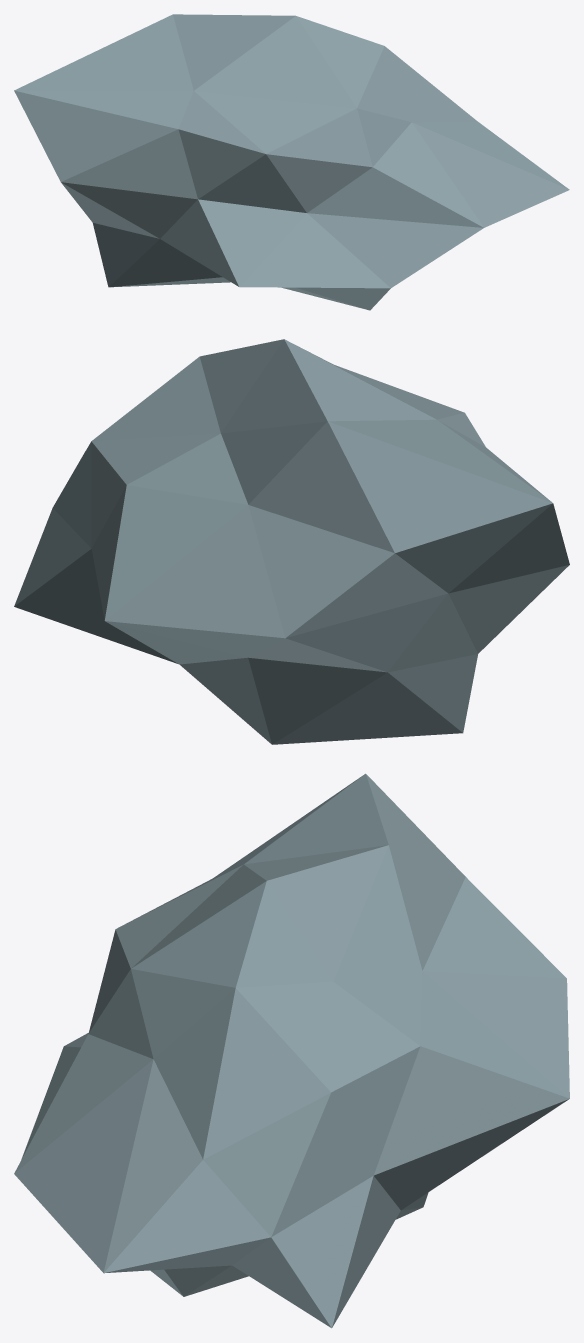
Rendered from RiversideRocks2.glb.
3 views of the same model, one above another, from view 1: azimuth 30°, elevation 25°; view 2: azimuth 150°, elevation 25°; view 3: azimuth 270°, elevation 25° (orthographic). The views are drawn at different scales.
Visible parts, largest first — view 1: RiverStone; view 2: RiverStone; view 3: RiverStone.
Part boxes in pixels (box(x1,y1,x2,y2)): RiverStone: box(14, 14, 569, 310); RiverStone: box(14, 339, 569, 744); RiverStone: box(14, 773, 569, 1328).
Bounding box in the file's own units: 0.7218 × 0.4247 × 0.5531.
